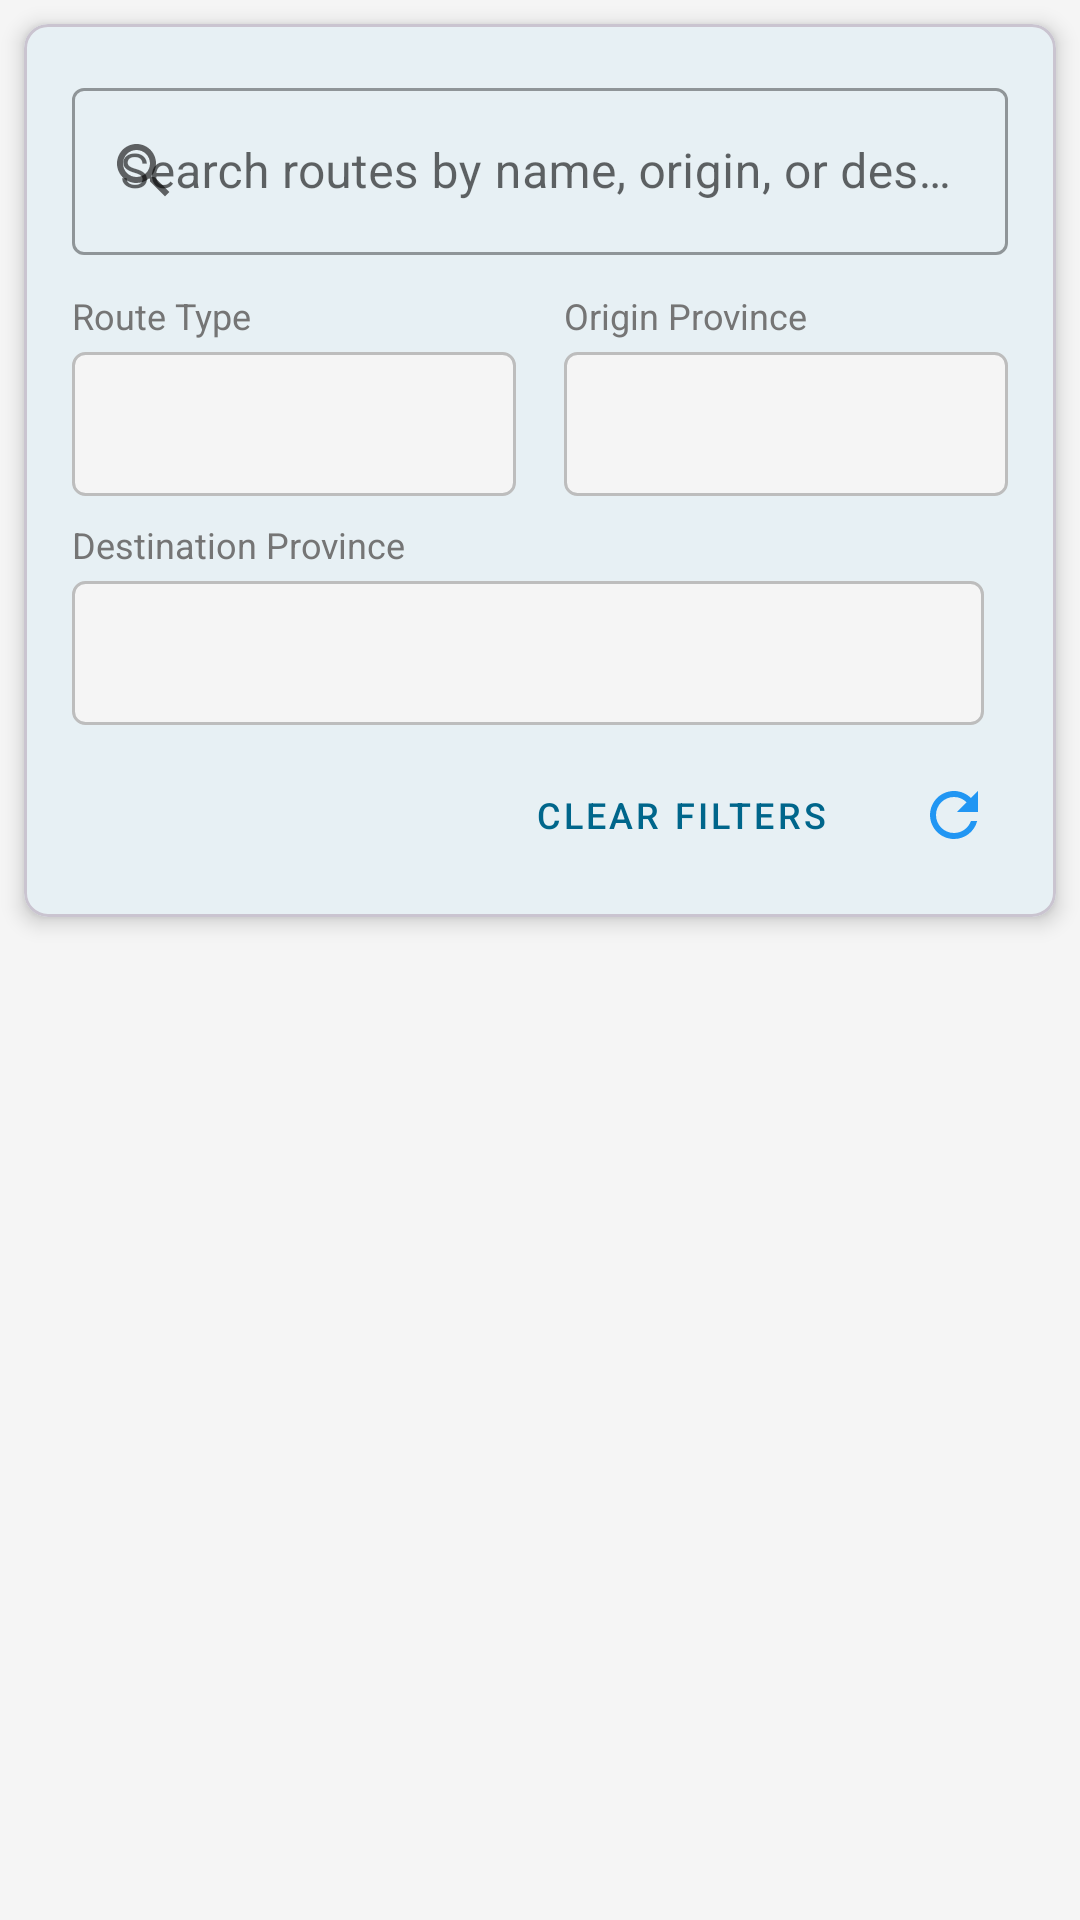

Where to tap for icons on this 1080px x 1920px app screen, as point (x, y):
Refresh routes: point (954, 815)
